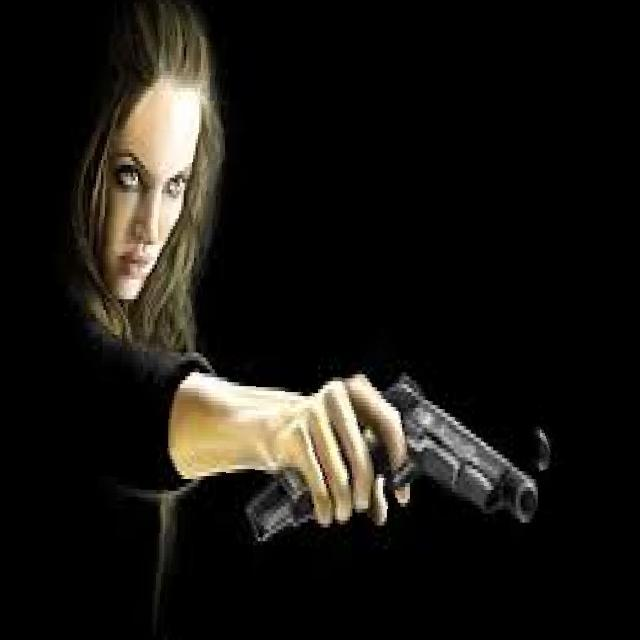Gun_Holder: (238, 368, 544, 575)
Person: (6, 2, 414, 640)
